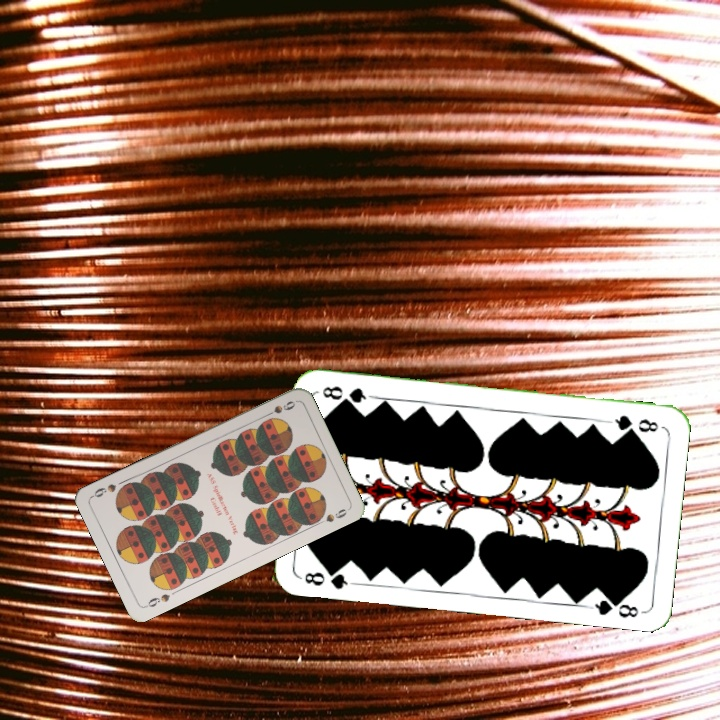G8: (297, 563, 356, 592), (605, 411, 661, 435)
S9: (259, 397, 298, 420), (141, 590, 173, 610)
